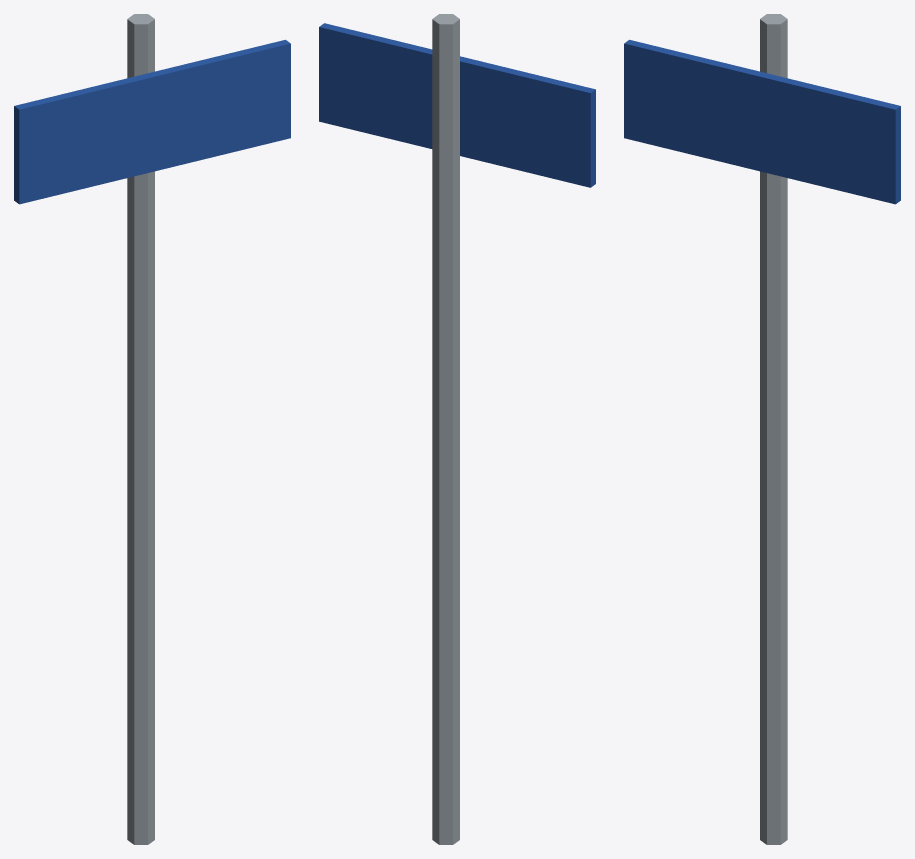
The model's file is Sign_OneWay.glb.
3 views of the same model, side by side, from view 1: azimuth 30°, elevation 25°; view 2: azimuth 150°, elevation 25°; view 3: azimuth 330°, elevation 25° (orthographic).
Visible parts, largest first — view 1: Sign_OneWay_Face, Sign_OneWay_Metal; view 2: Sign_OneWay_Face, Sign_OneWay_Metal; view 3: Sign_OneWay_Face, Sign_OneWay_Metal.
Part boxes in pixels (x1=…): Sign_OneWay_Face: x1=14, y1=39, x2=290, y2=204; Sign_OneWay_Metal: x1=127, y1=14, x2=154, y2=844; Sign_OneWay_Face: x1=319, y1=23, x2=595, y2=187; Sign_OneWay_Metal: x1=432, y1=14, x2=459, y2=844; Sign_OneWay_Face: x1=624, y1=39, x2=900, y2=204; Sign_OneWay_Metal: x1=760, y1=14, x2=787, y2=844.
Bounding box in the file's own units: 0.9 × 2.6 × 0.12.
